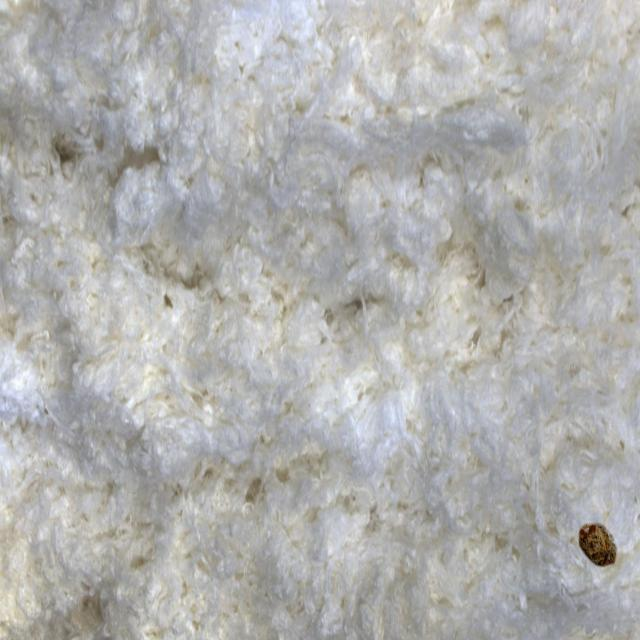dust: (566, 479, 640, 624)
